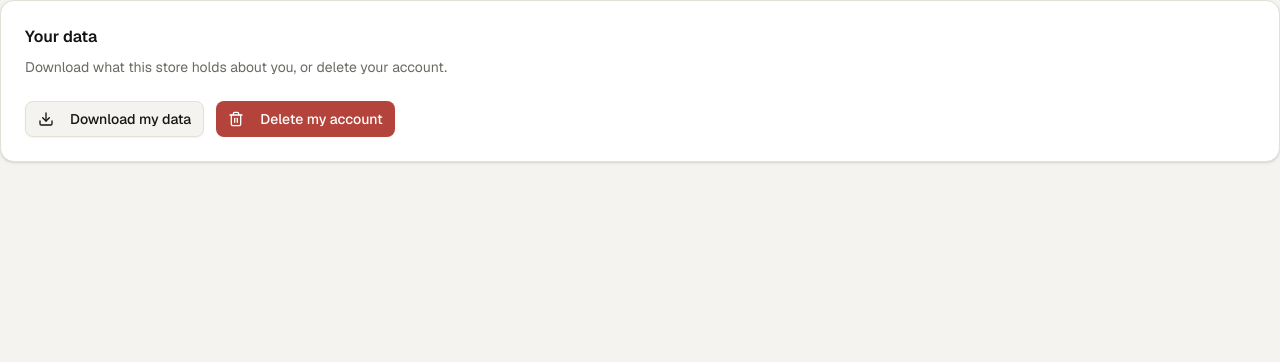
Test: Your data card (studio issue #603) › asks first, says what is kept, then opens BuildBase delete account
Later steps or results of the test are not shown.
Step 1. Click the button "Delete my account" → (306, 119), box [216, 101, 395, 137]
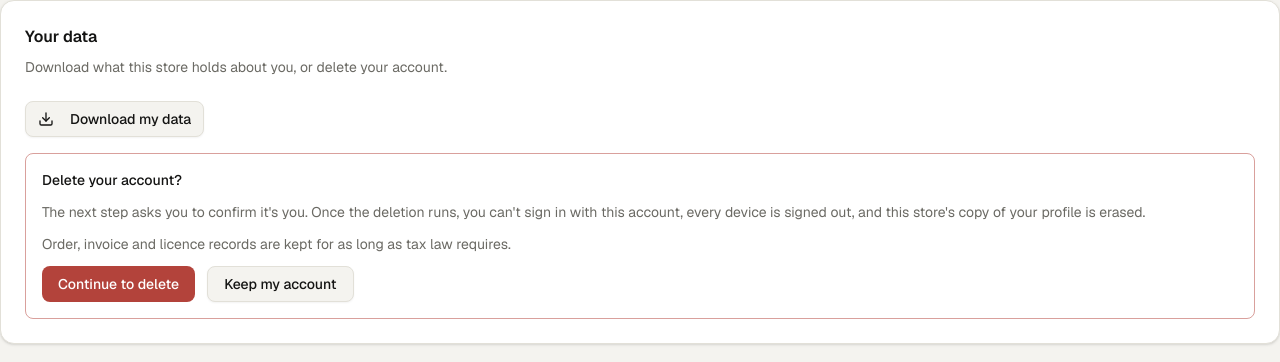
Expected: the text "tax law" is shown, [42, 235, 511, 253]
